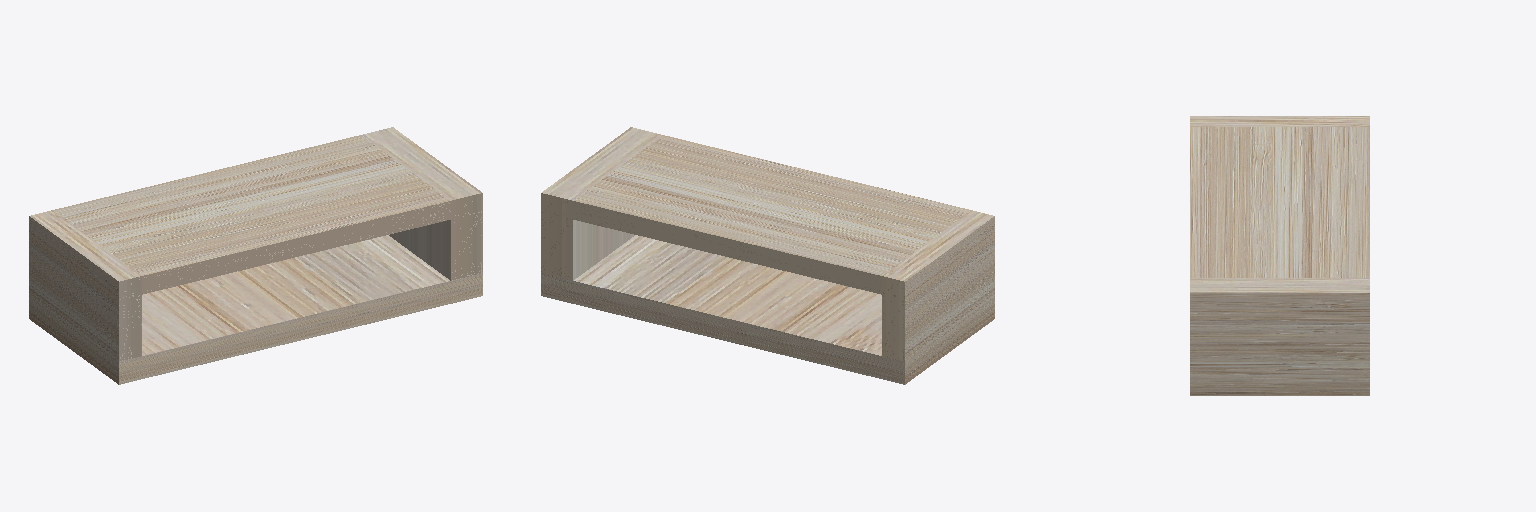
3 views of the same model, side by side, from view 1: azimuth 30°, elevation 25°; view 2: azimuth 150°, elevation 25°; view 3: azimuth 270°, elevation 25° (orthographic).
Parts seen in each view (by area): view 1: Cube.005_Cube.006; view 2: Cube.005_Cube.006; view 3: Cube.005_Cube.006.
Boxes of the visible parts, box(x1,y1,x2,y2) form: Cube.005_Cube.006: box(29, 127, 482, 384); Cube.005_Cube.006: box(541, 127, 994, 384); Cube.005_Cube.006: box(1190, 116, 1369, 395).
Bounding box in the file's own units: 5.31 × 1.44 × 2.27.
1 materials, 1 textured.